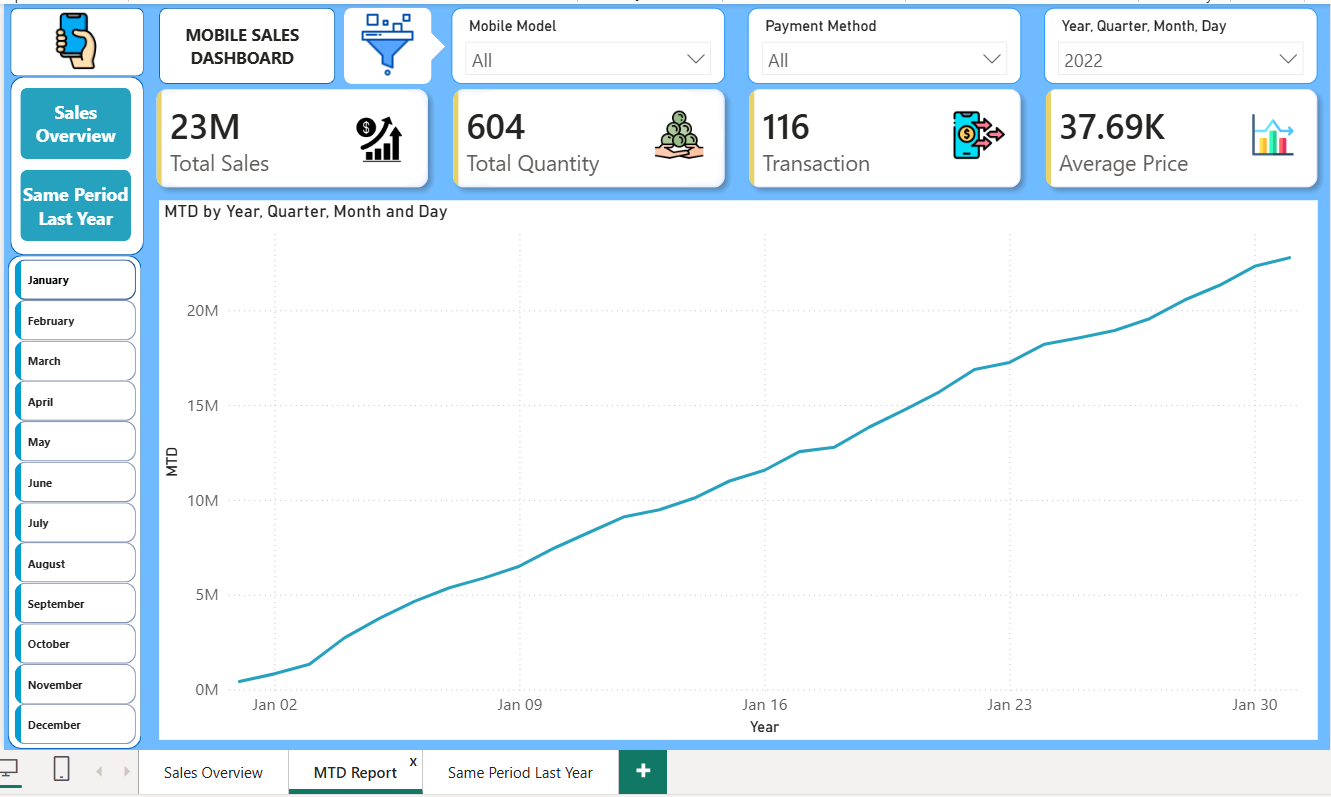

The page's visual inventory and layout, read from the dashboard file:
{"tool":"powerbi","page":{"name":"MTD Report","canvas":[1280,720],"ordinal":1},"visuals":[{"type":"shape","box":[3.6,242.5,129.1,476.5],"z":0},{"type":"shape","box":[361.9,19.3,63.9,43.4],"z":1000},{"type":"shape","box":[6,3.6,129.1,66.4],"z":2000},{"type":"image","box":[39.8,8.4,62.7,54.3],"z":3000},{"type":"shape","box":[6,70,129.1,172.5],"z":4000},{"type":"cardVisual","fields":{"Data":["Mobile Sales Data.Total Sales","Mobile Sales Data.Total Quantity","Mobile Sales Data.Transaction","Mobile Sales Data.Average Price"]},"box":[135.1,70,1144.9,119.4],"z":5000},{"type":"image","box":[328.2,108.6,68,44],"z":6000},{"type":"image","box":[906,101.3,70,50],"z":7000},{"type":"image","box":[621.3,101.3,60.3,49.5],"z":8000},{"type":"image","box":[1189.6,106.2,70,39.8],"z":9000},{"type":"slicer","fields":{"Values":["Mobile Sales Data.Mobile Model"]},"box":[431.9,3.6,264.2,73.6],"z":10000},{"type":"slicer","fields":{"Values":["Mobile Sales Data.Payment Method"]},"box":[717.5,3.8,264,73.8],"z":11000},{"type":"slicer","fields":{"Values":["Custom Calendar.Date.Variation.Date Hierarchy.Year","Custom Calendar.Date.Variation.Date Hierarchy.Quarter","Custom Calendar.Date.Variation.Date Hierarchy.Month","Custom Calendar.Date.Variation.Date Hierarchy.Day"]},"box":[1003.8,3.8,264,73.8],"z":12000},{"type":"shape","box":[328.2,3.6,84.5,73.6],"z":13000},{"type":"image","box":[335.4,8.4,70,61.5],"z":14000},{"type":"shape","box":[149.6,3.6,170.1,73.6],"z":15000},{"type":"textbox","box":[161.7,12.1,136.3,65.1],"z":16000},{"type":"lineChart","fields":{"Category":["Custom Calendar.Date.Variation.Date Hierarchy.Year","Custom Calendar.Date.Variation.Date Hierarchy.Quarter","Custom Calendar.Date.Variation.Date Hierarchy.Month","Custom Calendar.Date.Variation.Date Hierarchy.Day"],"Y":["Mobile Sales Data.MTD"]},"box":[149.6,189.4,1118.4,521.2],"z":17000},{"type":"advancedSlicerVisual","fields":{"Values":["Custom Calendar.Date.Variation.Date Hierarchy.Month"]},"box":[0,242.5,135.1,476.5],"z":18000},{"type":"pageNavigator","box":[15.7,80.8,107.4,149.6],"z":19000}]}

Visuals, with their boxes on the page's 1280x720 design canvas (x1, y1, x2, y2). These are canvas units, not pixel positions in the 1331x797 screenshot, which may show the page scaled, cropped or inside an application window:
shape: locate(4, 242, 133, 719)
shape: locate(362, 19, 426, 63)
shape: locate(6, 4, 135, 70)
image: locate(40, 8, 102, 63)
shape: locate(6, 70, 135, 242)
cardVisual - Mobile Sales Data.Total Sales x Mobile Sales Data.Total Quantity: locate(135, 70, 1280, 189)
image: locate(328, 109, 396, 153)
image: locate(906, 101, 976, 151)
image: locate(621, 101, 682, 151)
image: locate(1190, 106, 1260, 146)
slicer - Mobile Sales Data.Mobile Model: locate(432, 4, 696, 77)
slicer - Mobile Sales Data.Payment Method: locate(718, 4, 982, 78)
slicer - Custom Calendar.Date.Variation.Date Hierarchy.Year x Custom Calendar.Date.Variation.Date Hierarchy.Quarter: locate(1004, 4, 1268, 78)
shape: locate(328, 4, 413, 77)
image: locate(335, 8, 405, 70)
shape: locate(150, 4, 320, 77)
textbox: locate(162, 12, 298, 77)
lineChart - Custom Calendar.Date.Variation.Date Hierarchy.Year x Custom Calendar.Date.Variation.Date Hierarchy.Quarter: locate(150, 189, 1268, 711)
advancedSlicerVisual - Custom Calendar.Date.Variation.Date Hierarchy.Month: locate(0, 242, 135, 719)
pageNavigator: locate(16, 81, 123, 230)
